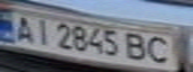2: (51, 19, 75, 51)
4: (87, 25, 106, 56)
5: (103, 26, 124, 59)
8: (69, 23, 87, 53)
A: (6, 10, 39, 43)
B: (124, 30, 151, 62)
C: (142, 34, 178, 65)
I: (30, 13, 54, 46)
